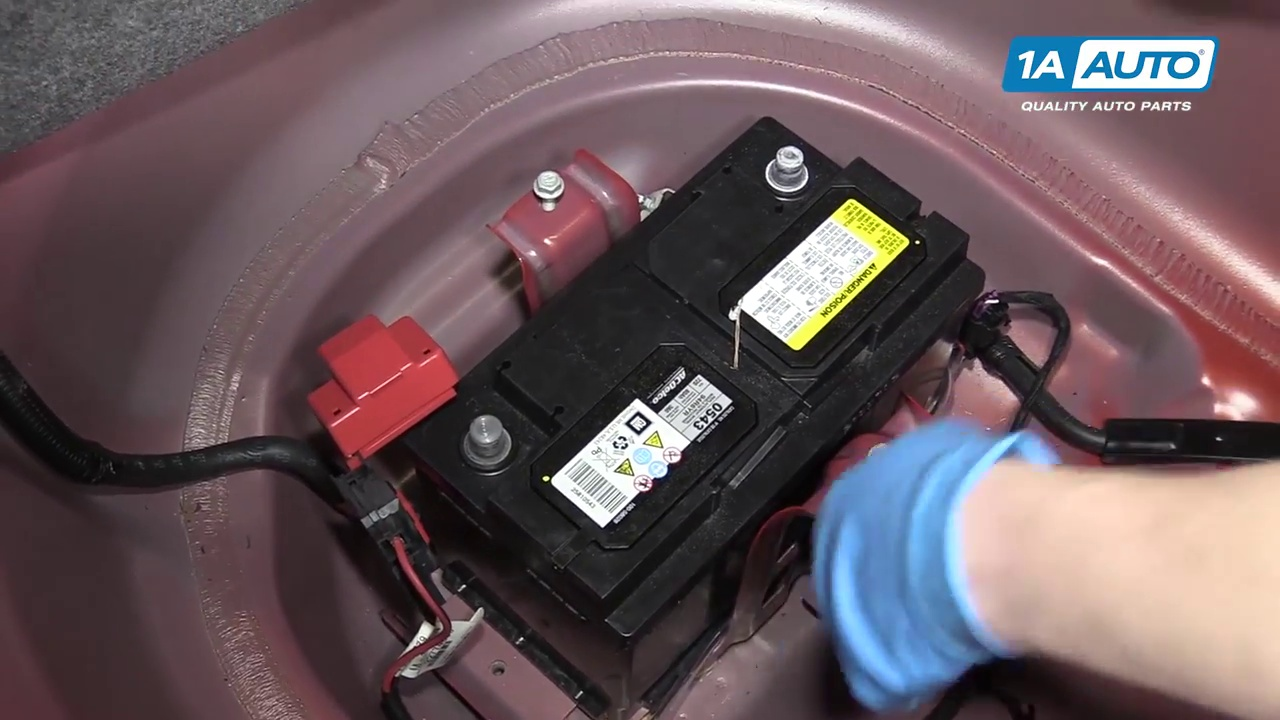battery: (388, 118, 978, 631)
neg_disconnected: (735, 124, 850, 219)
pos_disconnected: (322, 329, 529, 495)
